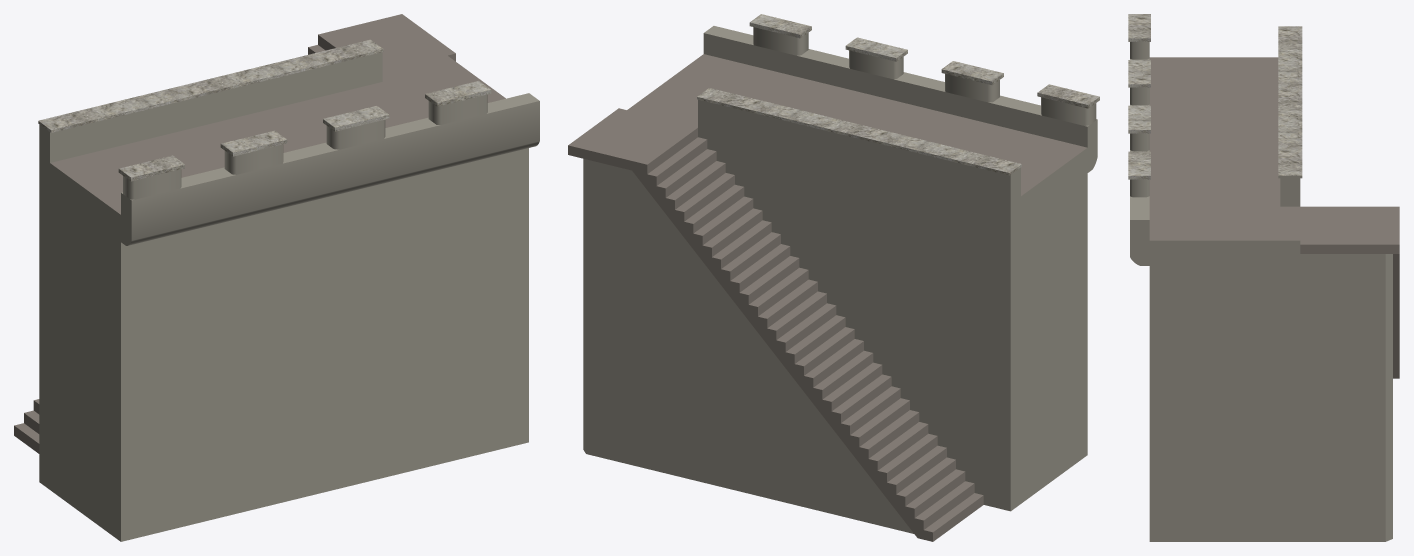
The model's file is Wall_with_stairs.fbx.
3 views of the same model, side by side, from view 1: azimuth 30°, elevation 25°; view 2: azimuth 150°, elevation 25°; view 3: azimuth 270°, elevation 25° (orthographic). The views are drawn at different scales.
Parts seen in each view (by area): view 1: Model; view 2: Model; view 3: Model.
Part boxes in pixels (left/top/right/bottom): Model: left=14, top=14, right=539, bottom=541; Model: left=568, top=14, right=1099, bottom=541; Model: left=1128, top=14, right=1399, bottom=541.
Bounding box in the file's own units: 24.76 × 21.11 × 15.09.
